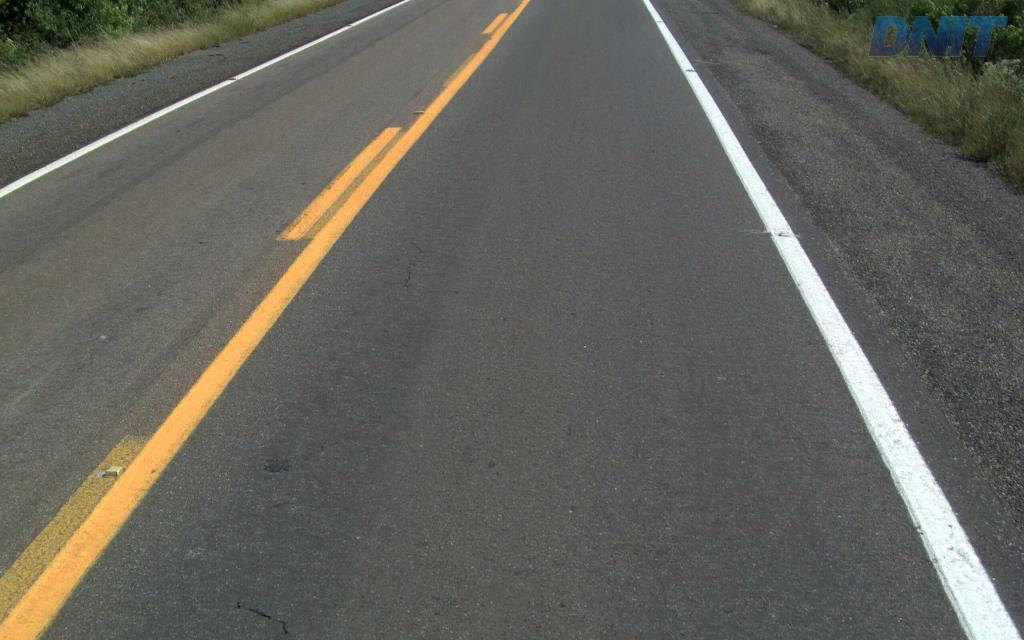crack: (231, 597, 291, 639)
